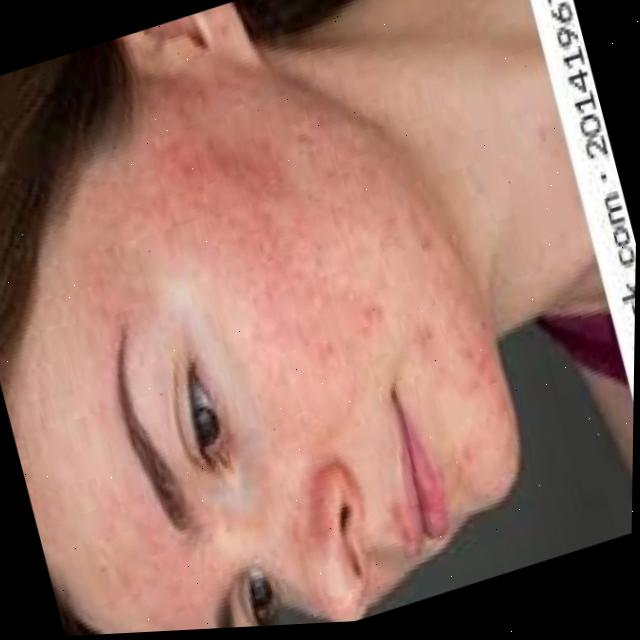Rosacea: (179, 62, 414, 439), (91, 509, 191, 625), (437, 293, 513, 419)
